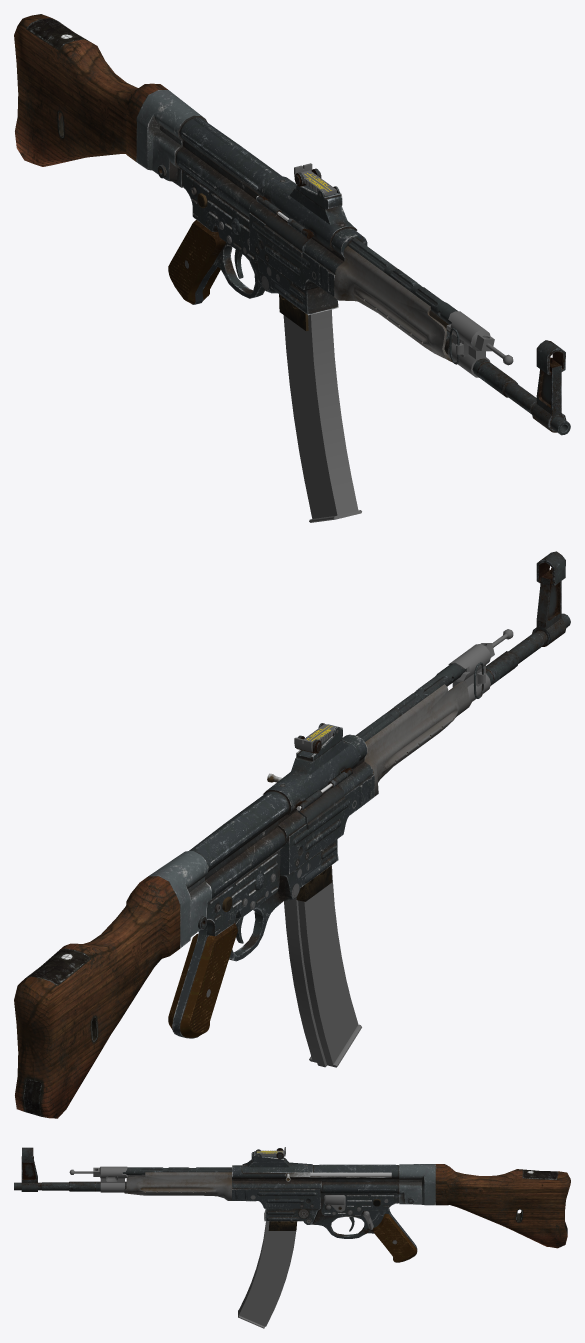
Rendered from stg44.glb.
The picture shows the model from 3 angles, top to bottom: view 1: azimuth 30°, elevation 25°; view 2: azimuth 150°, elevation 25°; view 3: azimuth 270°, elevation 25°; orthographic projection. The views are drawn at different scales.
Parts seen in each view (by area): view 1: Low_STG, Low_Priklad, Low_Magazin, Low_Ceve, Low_Stvolniy_Pricel, Low_Nachalo_Gazovogo_Porshnya, Low_Stvol, Low_Gazoviu_Porshen, Low_Krishka; view 2: Low_STG, Low_Priklad, Low_Magazin, Low_Ceve, Low_Stvolniy_Pricel, Low_Gazoviu_Porshen, Low_Nachalo_Gazovogo_Porshnya, Low_Stvol, Low_Krishka; view 3: Low_STG, Low_Priklad, Low_Magazin, Low_Ceve, Low_Nachalo_Gazovogo_Porshnya, Low_Stvol, Low_Gazoviu_Porshen, Low_Stvolniy_Pricel, Low_Pruzina_Osnovnaya, Low_Krishka_Osnovnaya.
Part boxes in pixels (x1,y1,x2,y2): Low_STG: (136,90,367,315); Low_Priklad: (14,14,168,166); Low_Magazin: (279,294,361,522); Low_Ceve: (334,246,452,362); Low_Stvolniy_Pricel: (532,340,566,432); Low_Nachalo_Gazovogo_Porshnya: (446,311,513,377); Low_Stvol: (444,331,570,435); Low_Gazoviu_Porshen: (348,238,457,324); Low_Krishka: (262,199,311,257); Low_STG: (148,723,374,1038); Low_Priklad: (14,876,180,1118); Low_Magazin: (284,865,361,1067); Low_Ceve: (364,681,471,796); Low_Stvolniy_Pricel: (532,551,566,646); Low_Gazoviu_Porshen: (355,663,466,741); Low_Nachalo_Gazovogo_Porshnya: (448,629,513,701); Low_Stvol: (486,613,570,685); Low_Krishka: (298,771,347,829); Low_STG: (232,1149,435,1262); Low_Priklad: (435,1164,570,1248); Low_Magazin: (238,1221,297,1328); Low_Ceve: (124,1172,232,1200); Low_Nachalo_Gazovogo_Porshnya: (69,1166,127,1192); Low_Stvol: (14,1181,126,1191); Low_Gazoviu_Porshen: (123,1167,231,1175); Low_Stvolniy_Pricel: (21,1147,37,1191); Low_Pruzina_Osnovnaya: (310,1172,391,1176); Low_Krishka_Osnovnaya: (324,1195,345,1211).
Bounding box in the file's own units: 0.3043 × 1.85 × 5.23.
4 materials, 4 textured.
